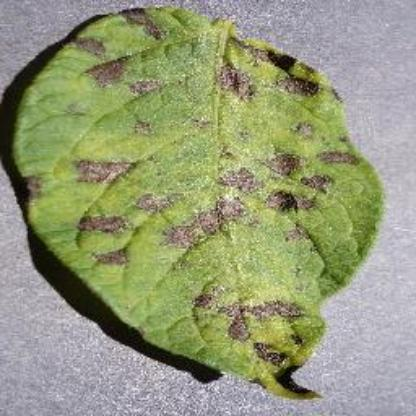Early-Blight: (3, 6, 381, 400)
